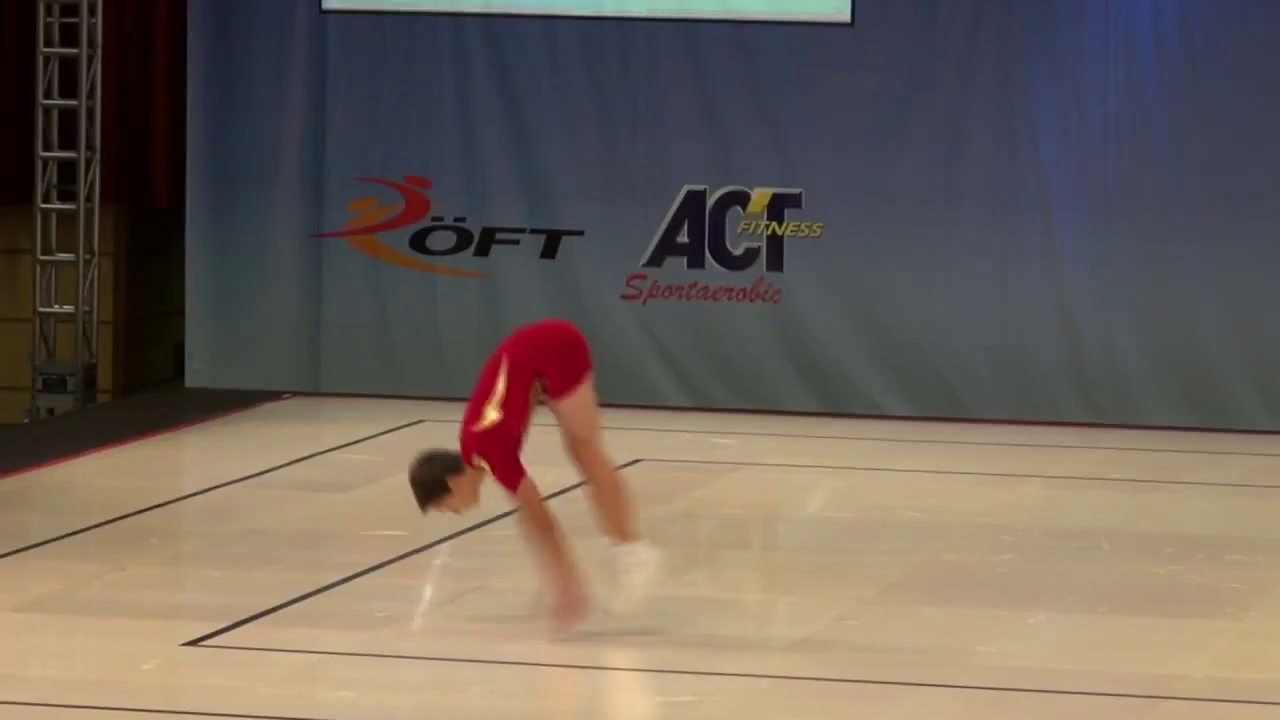person: (409, 319, 666, 638)
